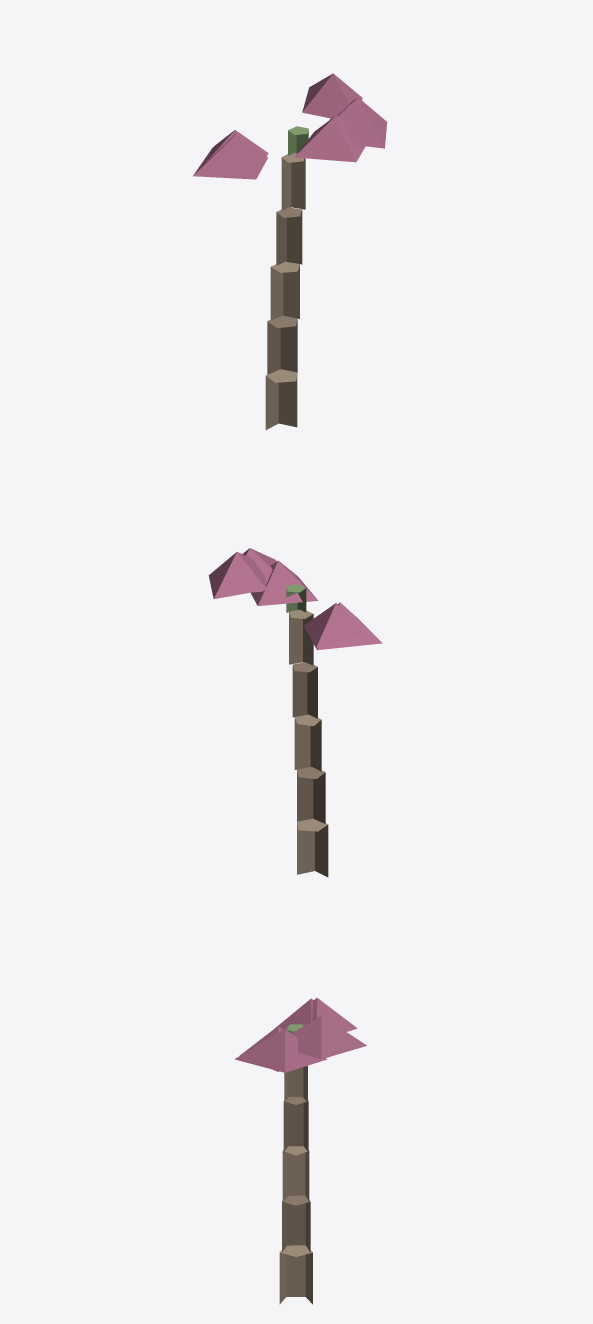
Rendered from shrub.trop.palm_understory__bloom.glb.
3 renders of one model, top to bottom at view 1: azimuth 30°, elevation 25°; view 2: azimuth 150°, elevation 25°; view 3: azimuth 270°, elevation 25°, orthographic. The views are drawn at different scales.
Parts seen in each view (by area): view 1: shrub.trop.palm_understory__bloom; view 2: shrub.trop.palm_understory__bloom; view 3: shrub.trop.palm_understory__bloom.
Boxes of the visible parts, x1,y1,x2,y2 form: shrub.trop.palm_understory__bloom: (193,73,387,429); shrub.trop.palm_understory__bloom: (208,548,382,877); shrub.trop.palm_understory__bloom: (234,998,366,1304).
Bounding box in the file's own units: 4.87 × 3.05 × 4.93.
